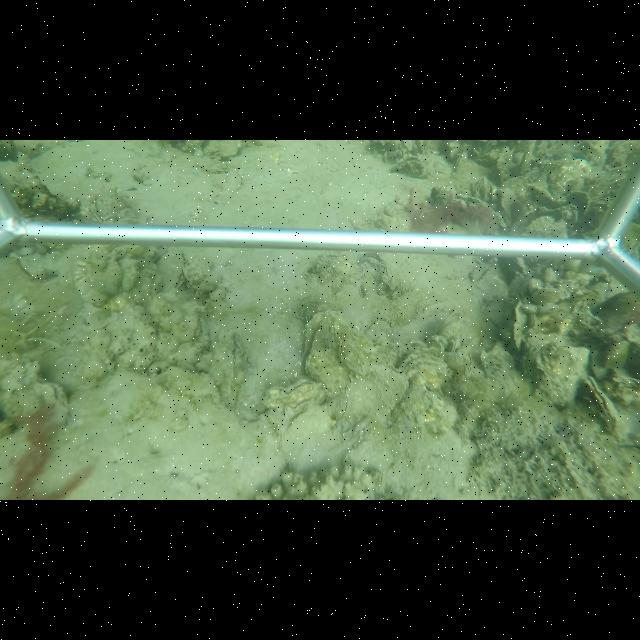Oyster-Closed: (300, 316, 354, 398), (431, 188, 506, 236), (209, 329, 251, 408), (299, 309, 345, 369), (582, 375, 620, 438), (398, 351, 454, 391), (262, 378, 329, 409), (193, 156, 232, 176), (170, 250, 189, 291), (180, 264, 209, 286), (453, 152, 468, 172)
Oyster-Open: (360, 254, 395, 295), (508, 296, 530, 353)
